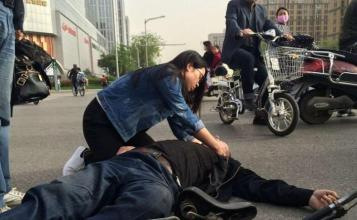10+: (1, 1, 357, 220)
down: (1, 132, 342, 220)
